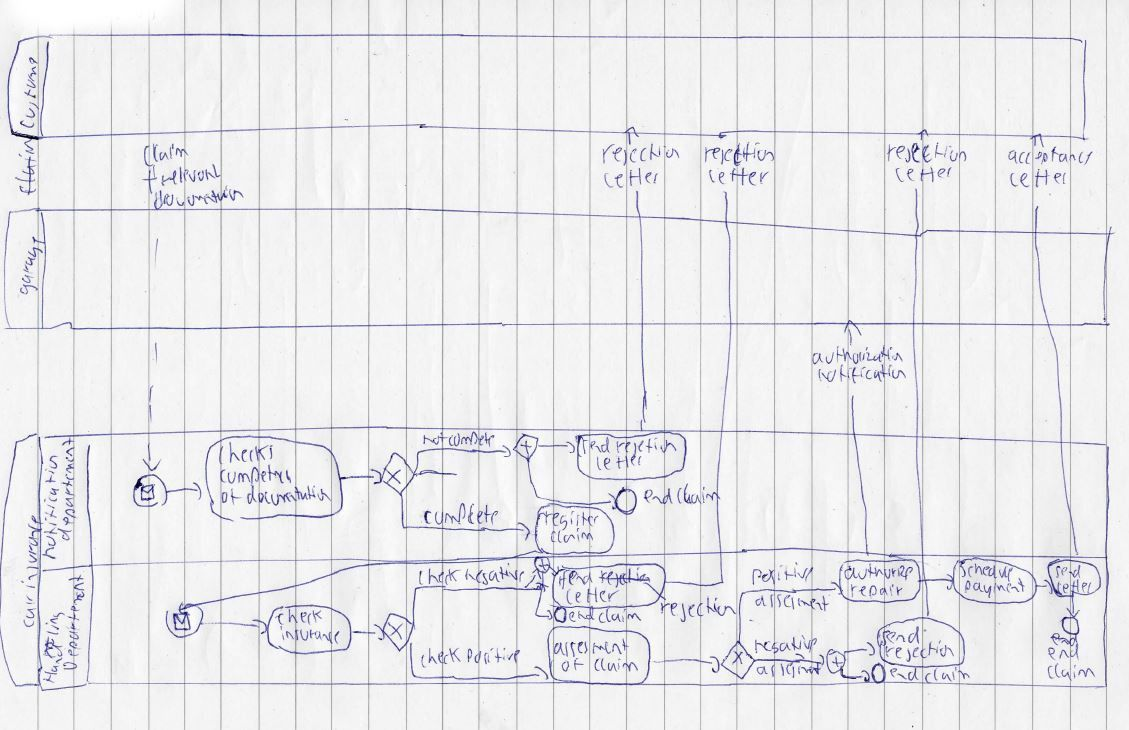Claim: (138, 138, 195, 174)
Departement: (57, 570, 90, 675)
Handling: (38, 607, 72, 688)
Schedule: (955, 555, 1019, 586)
Send: (554, 566, 597, 594)
acceptance: (1001, 142, 1100, 171)
assesment: (547, 634, 635, 663), (749, 589, 837, 617), (751, 660, 829, 683)
authorization: (807, 341, 909, 370)
authorize: (839, 560, 918, 585)
car: (17, 591, 41, 634)
check: (415, 643, 466, 673), (412, 564, 465, 591), (271, 605, 328, 630)
checks: (214, 436, 279, 471)
claim: (671, 479, 727, 511), (1041, 658, 1102, 686), (919, 663, 978, 687), (594, 602, 648, 628), (542, 524, 599, 548), (588, 653, 644, 677)
complete: (418, 498, 503, 531), (444, 429, 502, 451)
cumpetion: (215, 461, 297, 491)
departement: (52, 433, 82, 547)
documentation: (147, 181, 251, 216), (241, 480, 338, 511)
end: (638, 482, 678, 511), (1043, 640, 1085, 666), (884, 662, 925, 687), (563, 602, 598, 627)
garage: (13, 232, 50, 300)
insurance: (11, 52, 43, 169), (14, 508, 49, 596), (275, 622, 349, 650)
letter: (596, 163, 665, 195), (701, 163, 774, 192), (561, 581, 626, 611), (1002, 166, 1073, 193), (889, 162, 957, 189), (591, 451, 649, 476), (1051, 575, 1098, 600)
negative: (459, 558, 532, 590), (749, 630, 824, 660)
not: (418, 429, 451, 454)
notification: (36, 450, 64, 566), (813, 360, 912, 388)
of: (215, 483, 247, 512), (556, 653, 590, 679)
payment: (958, 574, 1033, 604)
positive: (746, 557, 818, 591), (462, 645, 525, 670)
register: (540, 505, 604, 534)
rejection: (654, 591, 742, 628), (595, 138, 687, 171), (881, 138, 974, 169), (699, 136, 781, 170), (879, 637, 961, 667), (612, 432, 682, 464)
relevant: (156, 160, 226, 193)
repair: (844, 580, 909, 604)
send: (876, 623, 925, 651), (577, 433, 616, 459), (1049, 561, 1086, 584)
